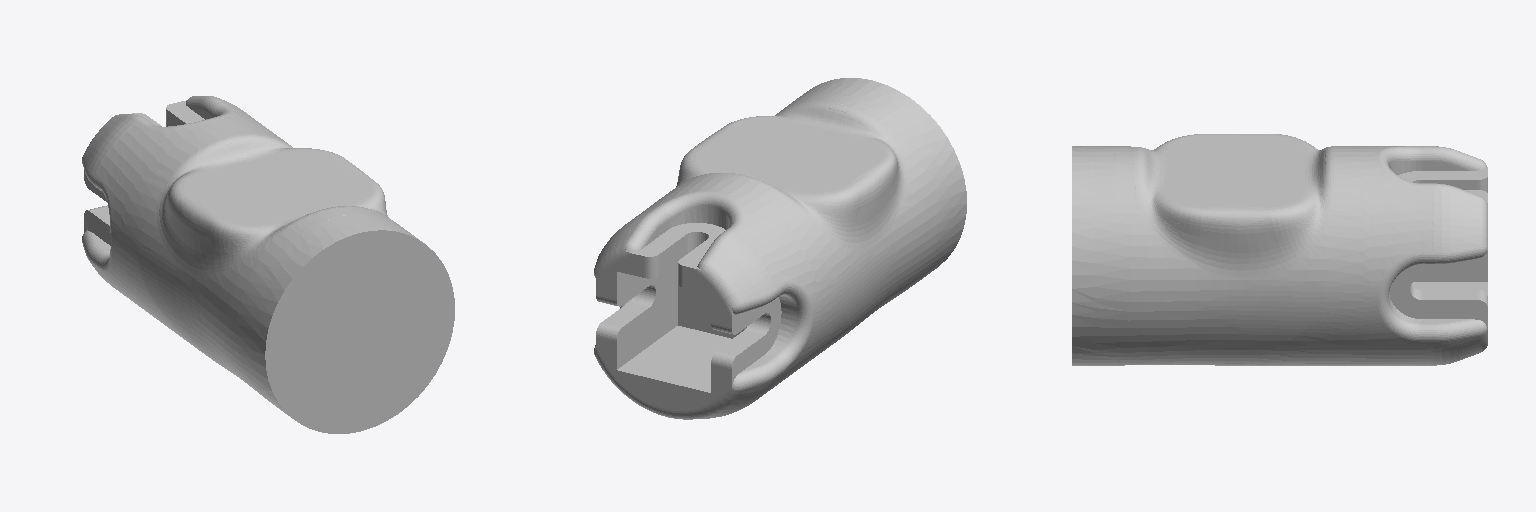
File: processed_base.obj
3 views of the same model, side by side, from view 1: azimuth 30°, elevation 25°; view 2: azimuth 150°, elevation 25°; view 3: azimuth 270°, elevation 25° (orthographic).
Visible parts, largest first — view 1: base; view 2: base; view 3: base.
Boxes of the visible parts, <box> form: base: <box>82,96,454,433</box>; base: <box>594,78,966,419</box>; base: <box>1072,134,1487,365</box>.
Bounding box in the file's own units: 0.0825 × 0.0825 × 0.1567.